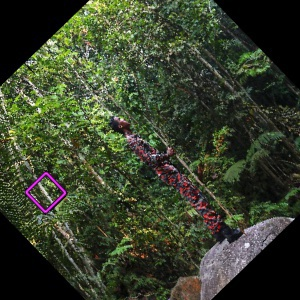square: (21, 170, 68, 213)
